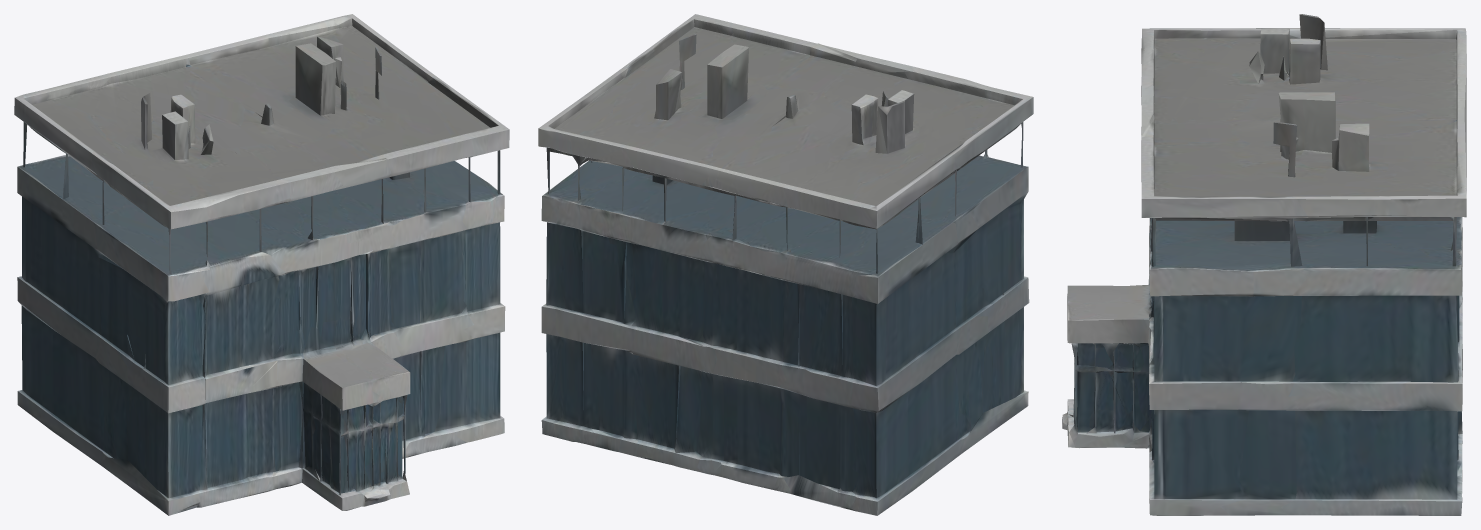
Rendered from aero_terminal.glb.
3 renders of one model, left to right at view 1: azimuth 30°, elevation 25°; view 2: azimuth 150°, elevation 25°; view 3: azimuth 270°, elevation 25°, orthographic. The views are drawn at different scales.
Parts seen in each view (by area): view 1: tripo_node_c323468e-0933-4703-ba42-aecc395cf653; view 2: tripo_node_c323468e-0933-4703-ba42-aecc395cf653; view 3: tripo_node_c323468e-0933-4703-ba42-aecc395cf653.
Boxes of the visible parts, x1,y1,x2,y2 form: tripo_node_c323468e-0933-4703-ba42-aecc395cf653: (14,14,509,515); tripo_node_c323468e-0933-4703-ba42-aecc395cf653: (538,14,1033,515); tripo_node_c323468e-0933-4703-ba42-aecc395cf653: (1062,14,1466,515).
Size of the model in its own units: 0.9998 by 1 by 0.9998.
Materials: 1 (1 with a texture image).
